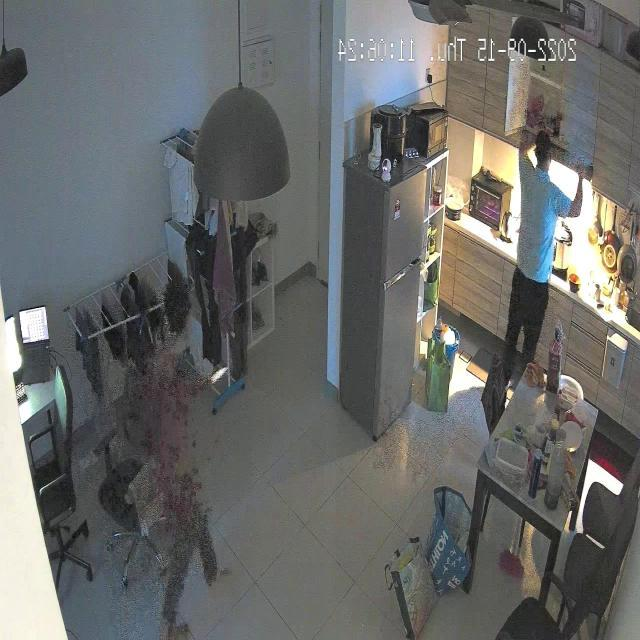Knife: (205, 349, 239, 401)
